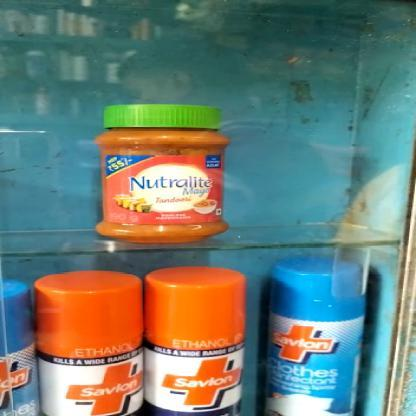Nutralite TANDOORI MAYO 300g-275g-25g-: (93, 105, 234, 242)
